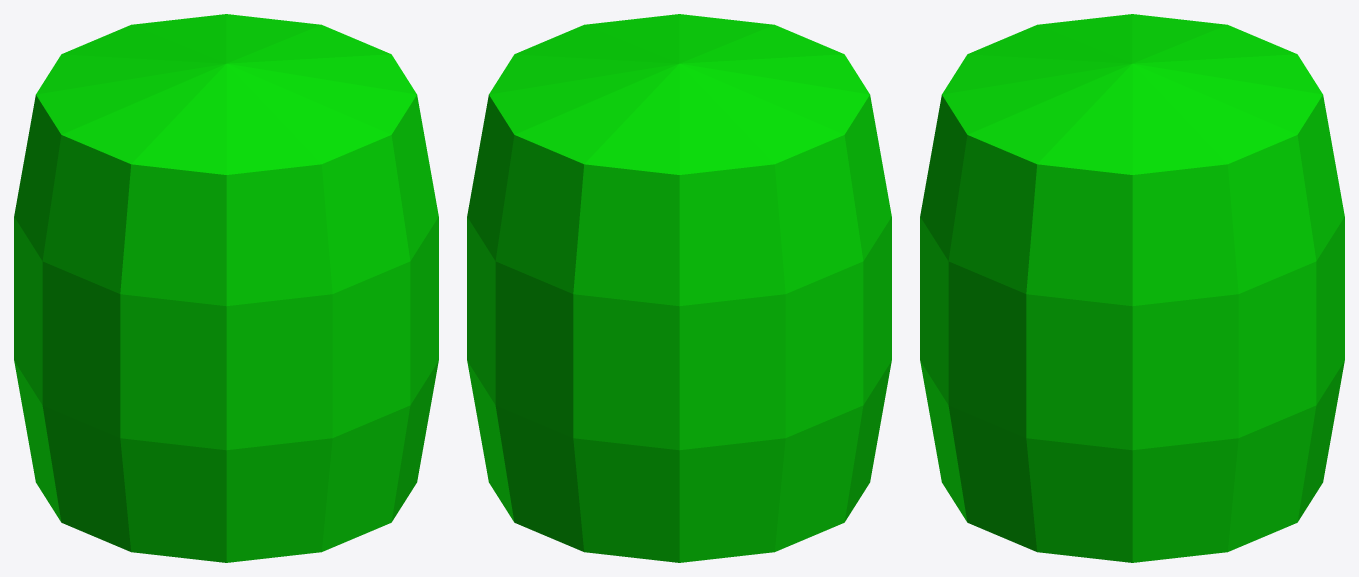
Rendered from Mini_Barrel.fbx.
3 views of the same model, side by side, from view 1: azimuth 30°, elevation 25°; view 2: azimuth 150°, elevation 25°; view 3: azimuth 270°, elevation 25° (orthographic).
Parts seen in each view (by area): view 1: pCylinder2; view 2: pCylinder2; view 3: pCylinder2.
Part boxes in pixels (box(x1,y1,x2,y2)): pCylinder2: box(14, 14, 438, 562); pCylinder2: box(467, 14, 891, 562); pCylinder2: box(920, 14, 1344, 562).
Bounding box in the file's own units: 3.17 × 3.7 × 3.17.
